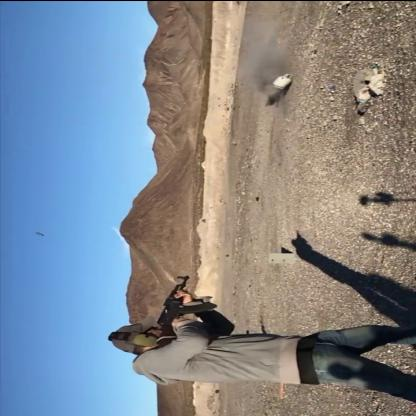long weapon: (153, 271, 211, 345)
